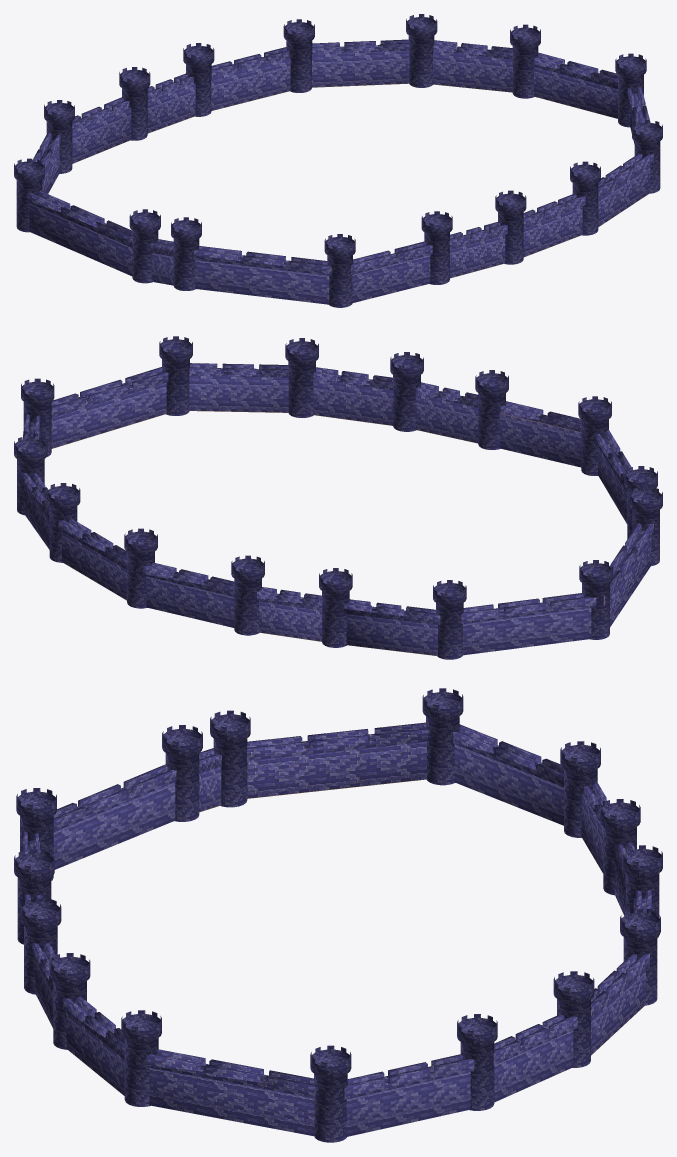
File: towerWall.fbx
3 views of the same model, one above another, from view 1: azimuth 30°, elevation 25°; view 2: azimuth 150°, elevation 25°; view 3: azimuth 270°, elevation 25° (orthographic). The views are drawn at different scales.
Visible parts, largest first — view 1: towerWall; view 2: towerWall; view 3: towerWall.
Part boxes in pixels (left/top/right/bottom): towerWall: left=14, top=14, right=662, bottom=307; towerWall: left=14, top=336, right=662, bottom=659; towerWall: left=14, top=688, right=662, bottom=1142.
Bounding box in the file's own units: 5423 × 549 × 3973.
